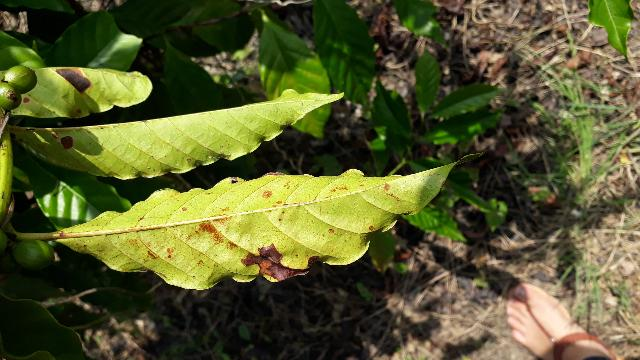red_spider_mite: (56, 152, 489, 289)
